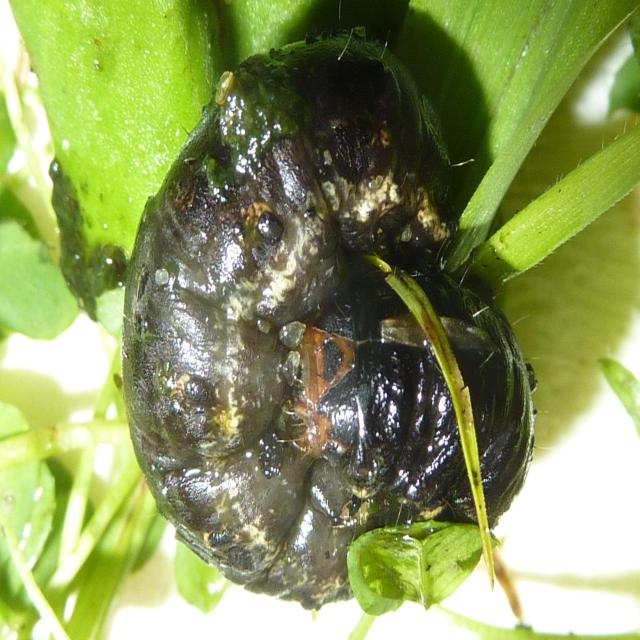black cutworm: (120, 33, 536, 611)
